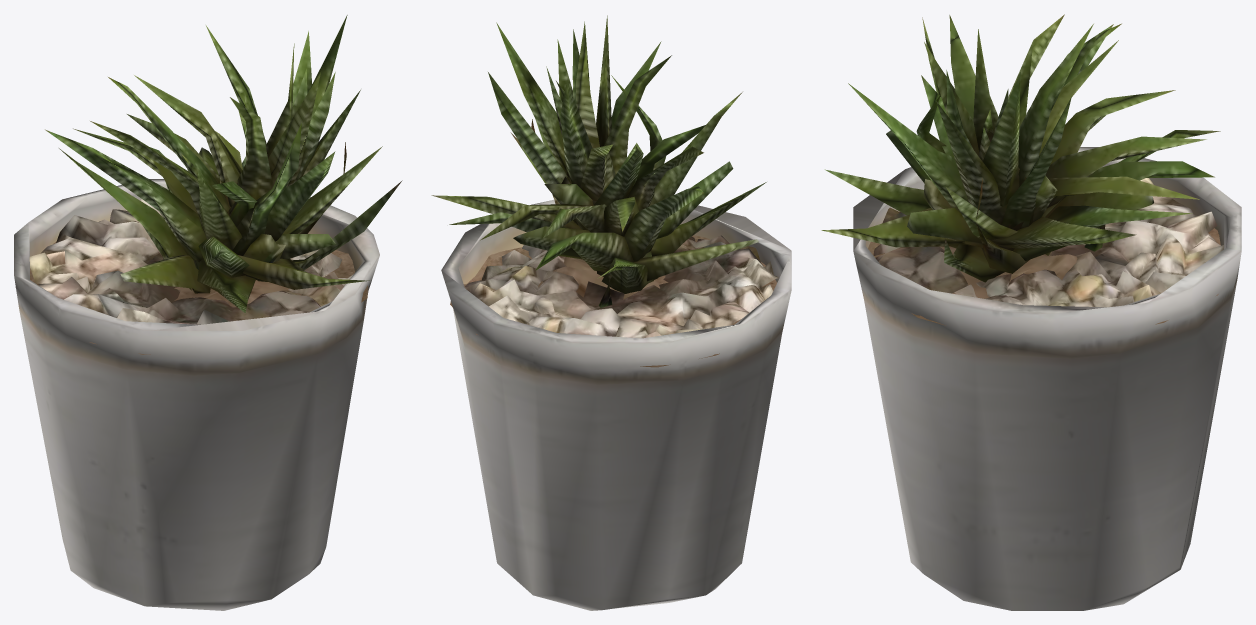
The model's file is plant_small.glb.
3 renders of one model, left to right at view 1: azimuth 30°, elevation 25°; view 2: azimuth 150°, elevation 25°; view 3: azimuth 270°, elevation 25°, orthographic. The views are drawn at different scales.
Visible parts, largest first — view 1: potted_plant_04_ground; view 2: potted_plant_04_ground; view 3: potted_plant_04_ground.
Boxes of the visible parts, x1=… form: potted_plant_04_ground: x1=14, y1=15, x2=402, y2=610; potted_plant_04_ground: x1=431, y1=15, x2=791, y2=610; potted_plant_04_ground: x1=821, y1=14, x2=1241, y2=610.
Size of the model in its own units: 0.1643 by 0.2619 by 0.175.
Materials: 1 (1 with a texture image).
